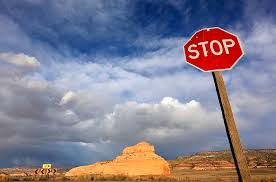stop: (181, 25, 244, 76)
